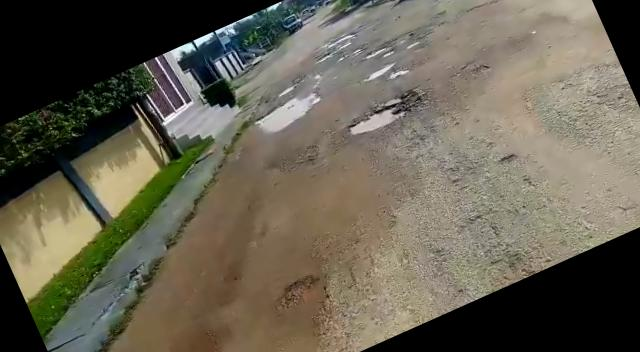pothole: (244, 86, 324, 140), (340, 88, 420, 140), (277, 268, 336, 322), (362, 39, 400, 61), (365, 63, 397, 84), (384, 66, 411, 84)
